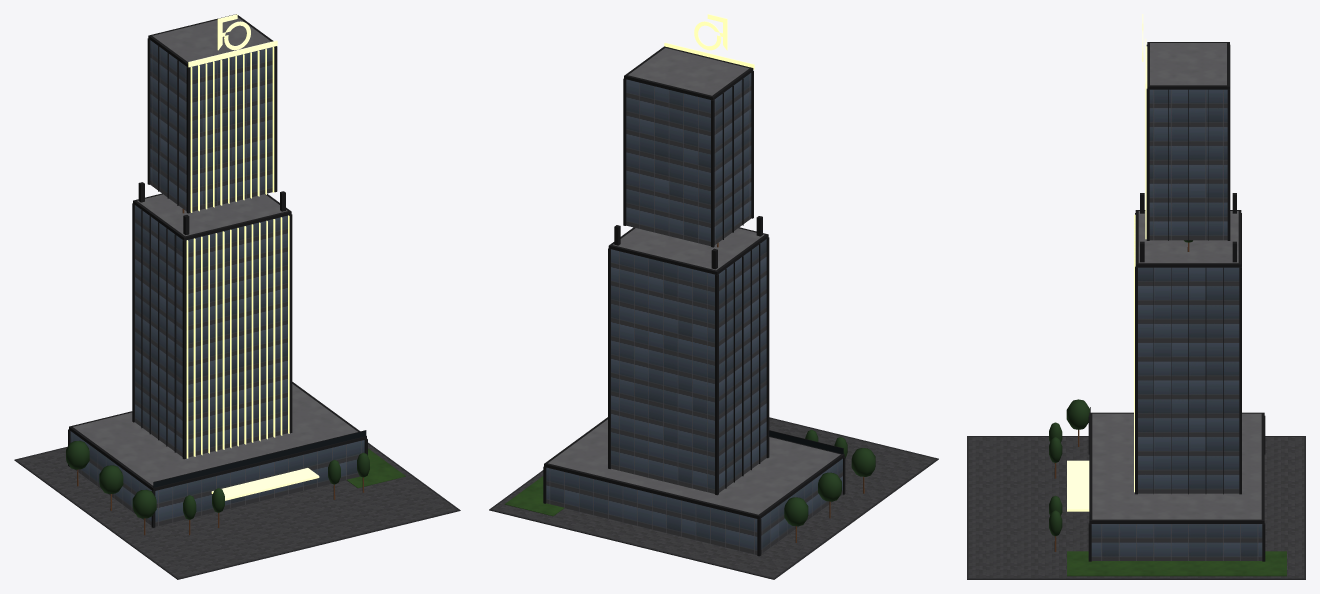
File: sponsor_L5.glb
3 views of the same model, side by side, from view 1: azimuth 30°, elevation 25°; view 2: azimuth 150°, elevation 25°; view 3: azimuth 270°, elevation 25° (orthographic). The views are drawn at different scales.
Visible parts, largest first — view 1: emissive_curtain_sponsor_L5, paving_sponsor_L5, emissive_led_sponsor_L5, roofing_sponsor_L5, black_metal_sponsor_L5, foliage_sponsor_L5, concrete_dark_sponsor_L5, glass_sponsor_L5, lawn_sponsor_L5; view 2: emissive_curtain_sponsor_L5, roofing_sponsor_L5, black_metal_sponsor_L5, paving_sponsor_L5, foliage_sponsor_L5, concrete_dark_sponsor_L5, emissive_led_sponsor_L5, lawn_sponsor_L5; view 3: emissive_curtain_sponsor_L5, paving_sponsor_L5, roofing_sponsor_L5, black_metal_sponsor_L5, lawn_sponsor_L5, emissive_led_sponsor_L5, foliage_sponsor_L5, concrete_dark_sponsor_L5.
Boxes of the visible parts, bbox=[...] form: emissive_curtain_sponsor_L5: bbox=[70, 40, 364, 526]; paving_sponsor_L5: bbox=[17, 444, 457, 577]; emissive_led_sponsor_L5: bbox=[186, 14, 319, 500]; roofing_sponsor_L5: bbox=[73, 17, 357, 485]; black_metal_sponsor_L5: bbox=[68, 14, 367, 527]; foliage_sponsor_L5: bbox=[66, 440, 369, 519]; concrete_dark_sponsor_L5: bbox=[14, 442, 460, 579]; glass_sponsor_L5: bbox=[153, 430, 366, 487]; lawn_sponsor_L5: bbox=[347, 448, 405, 488]; emissive_curtain_sponsor_L5: bbox=[546, 73, 842, 554]; roofing_sponsor_L5: bbox=[548, 48, 840, 514]; black_metal_sponsor_L5: bbox=[543, 46, 845, 556]; paving_sponsor_L5: bbox=[492, 418, 935, 577]; foliage_sponsor_L5: bbox=[784, 429, 875, 526]; concrete_dark_sponsor_L5: bbox=[489, 417, 938, 579]; emissive_led_sponsor_L5: bbox=[664, 14, 754, 69]; lawn_sponsor_L5: bbox=[504, 476, 564, 516]; emissive_curtain_sponsor_L5: bbox=[1091, 89, 1262, 560]; paving_sponsor_L5: bbox=[968, 437, 1304, 578]; roofing_sponsor_L5: bbox=[1092, 43, 1261, 519]; black_metal_sponsor_L5: bbox=[1088, 42, 1265, 561]; lawn_sponsor_L5: bbox=[1067, 551, 1286, 576]; emissive_led_sponsor_L5: bbox=[1067, 14, 1147, 511]; foliage_sponsor_L5: bbox=[1049, 240, 1192, 536]; concrete_dark_sponsor_L5: bbox=[967, 436, 1305, 579].
Size of the model in its own units: 58.6 by 92.72 by 58.6.
Materials: 10 (5 with a texture image).
